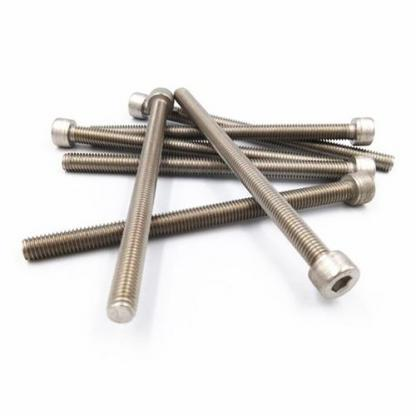FOD: (172, 85, 361, 301), (17, 170, 378, 265), (104, 86, 175, 324), (48, 116, 356, 154), (61, 150, 377, 180)
